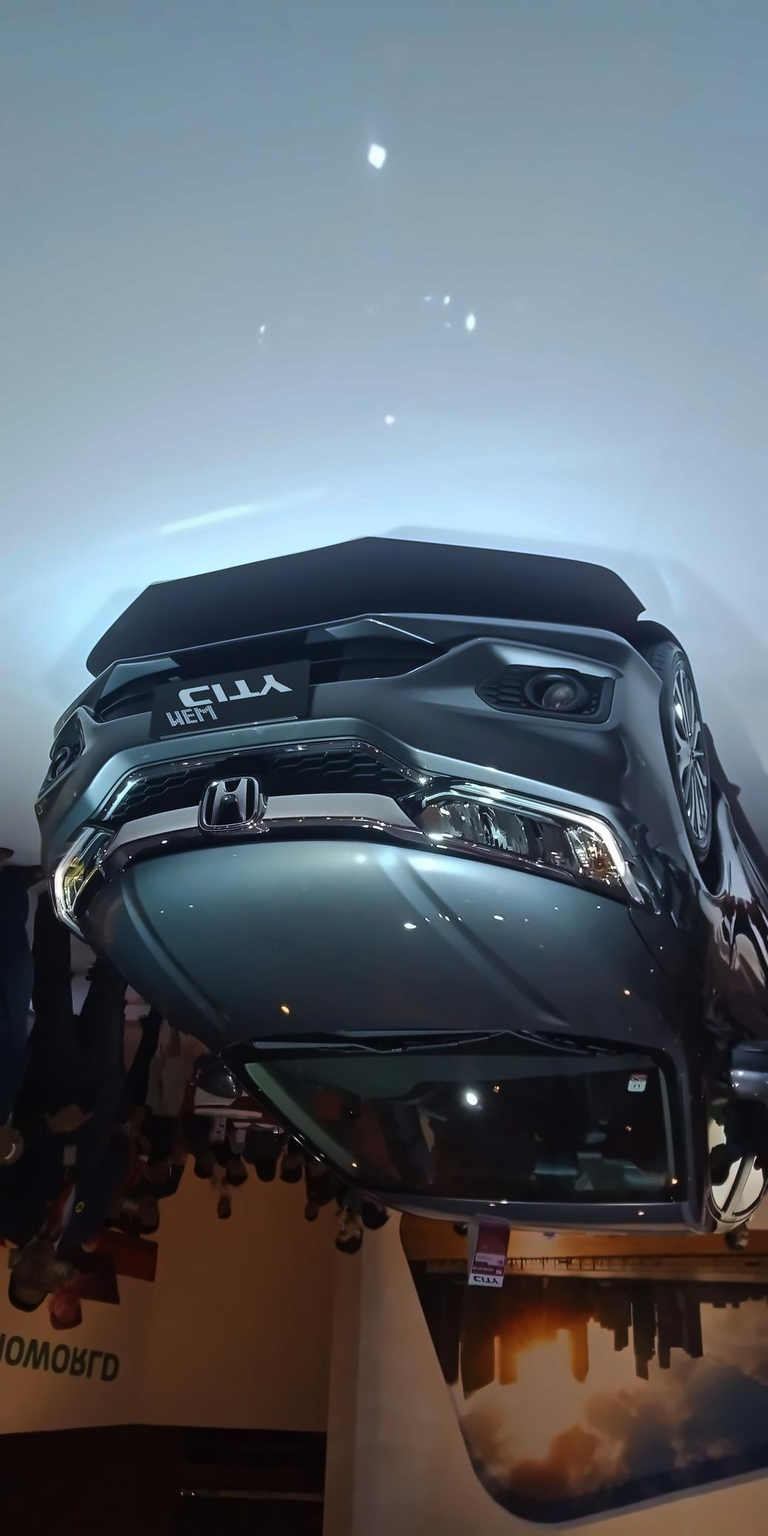Car hood: (74, 835, 696, 1056)
Fender - -F-R-: (622, 792, 739, 1069)
Front bumper: (21, 609, 688, 850)
Headlight - -L-: (44, 818, 127, 947)
Headlight - -R-: (393, 767, 652, 916)
Side mirror - -L-: (182, 1046, 249, 1109)
Side mirror - -R-: (719, 1027, 768, 1120)
